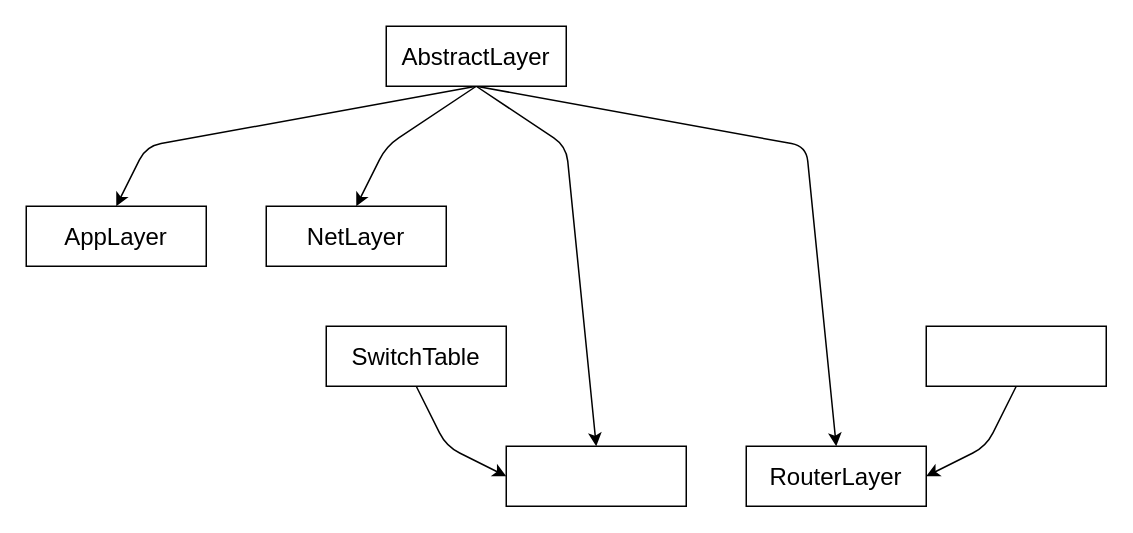
Image size: 1133x533. Some labels were removed from this diagram. Each missing label, with the box of its shape:
RouterTable: (925, 325, 1106, 386)
SwitchLayer: (505, 445, 686, 506)
